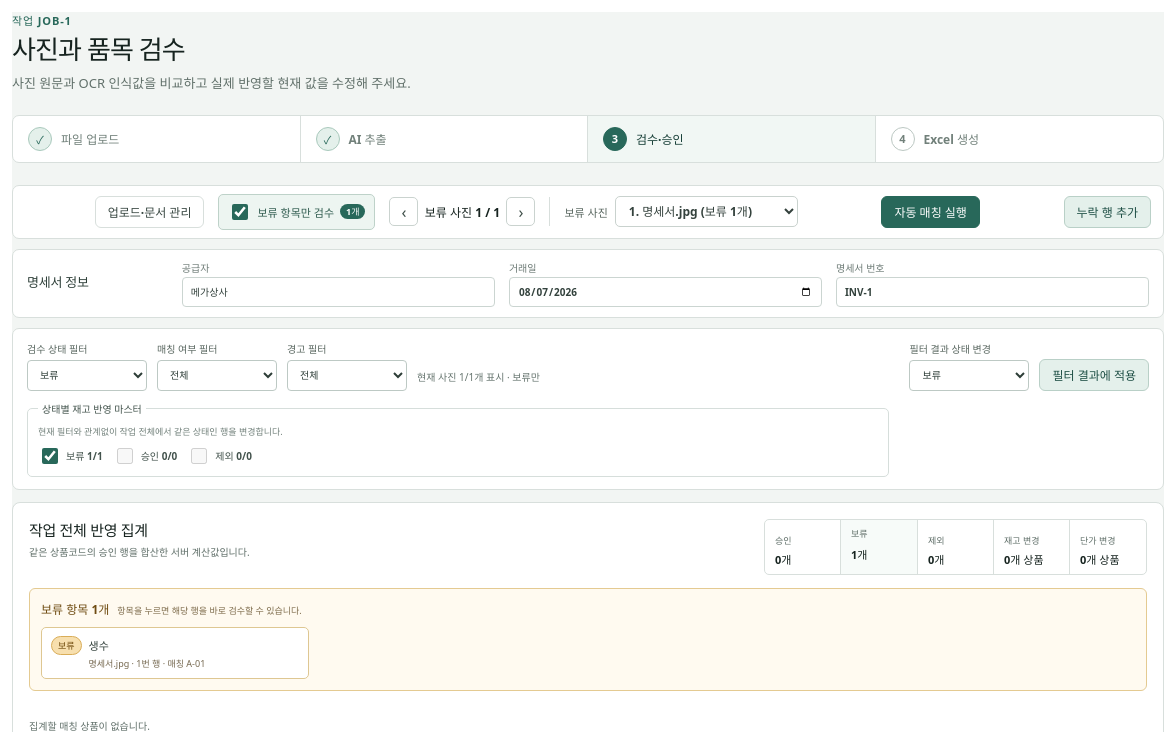
Test case: 사진과 품목 검수 › 문서 메타데이터를 접근 가능한 입력으로 수정하고 blur 시 집계와 품목을 갱신한다
Expected: the field labelled "명세서 번호" holds "INV-1", [836, 277, 1149, 307]
Replace the text in the field named "사진 공급자" with "새 공급사" at (338, 292), box [182, 277, 495, 307]
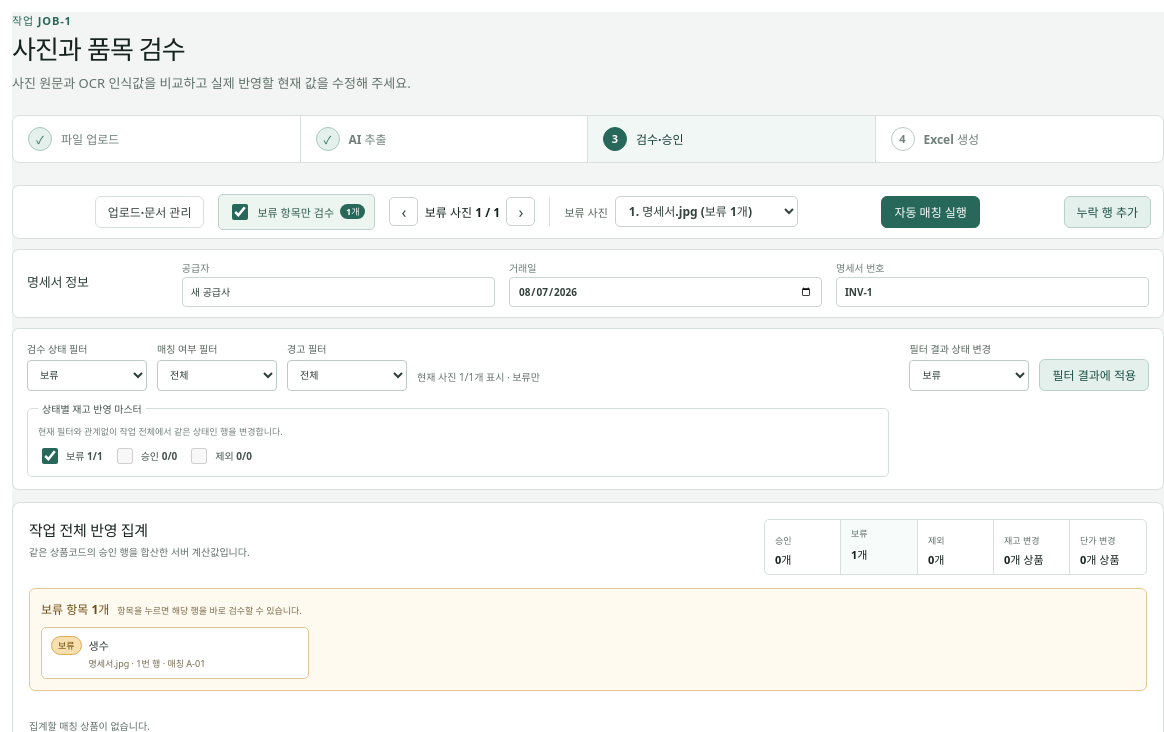
Leave the field named "사진 공급자", box [182, 277, 495, 307]
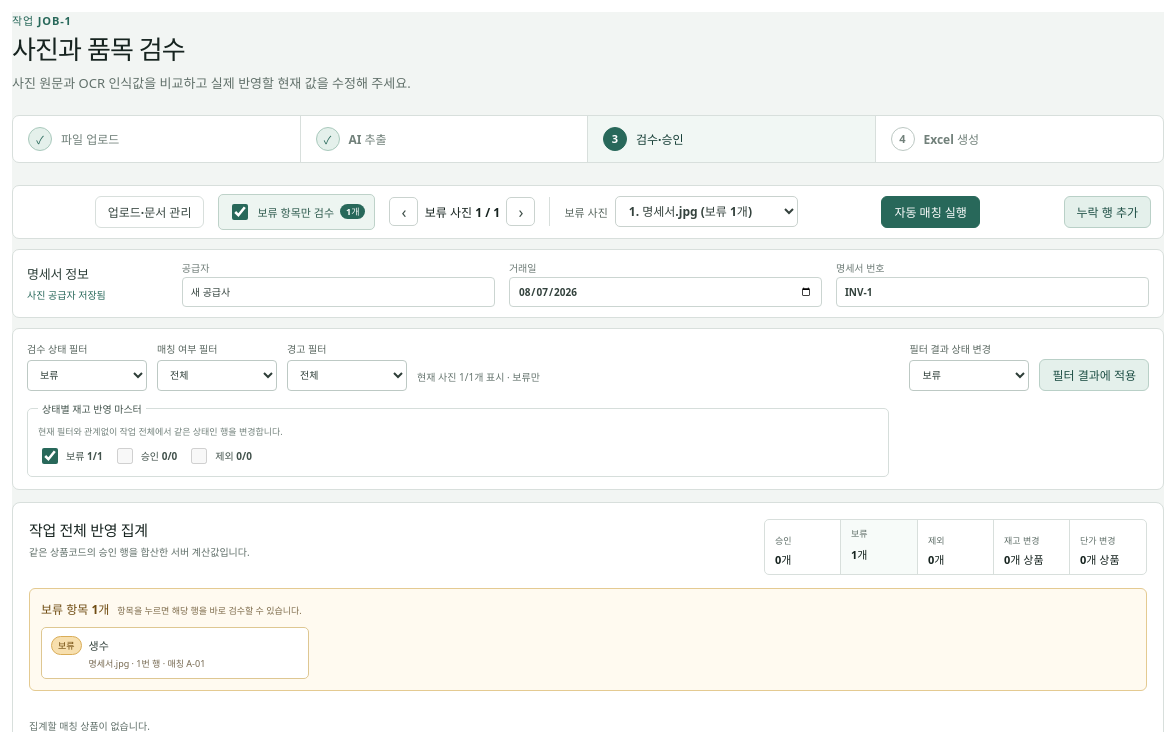
Result: the text "사진 공급자 저장됨" is shown at [27, 288, 106, 302]
